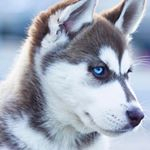puppy: (10, 1, 148, 147)
